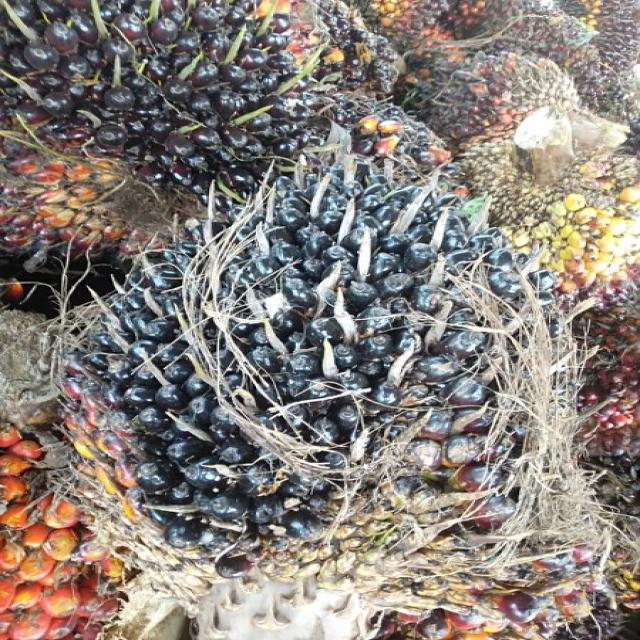fraksi 00: (52, 140, 574, 571)
